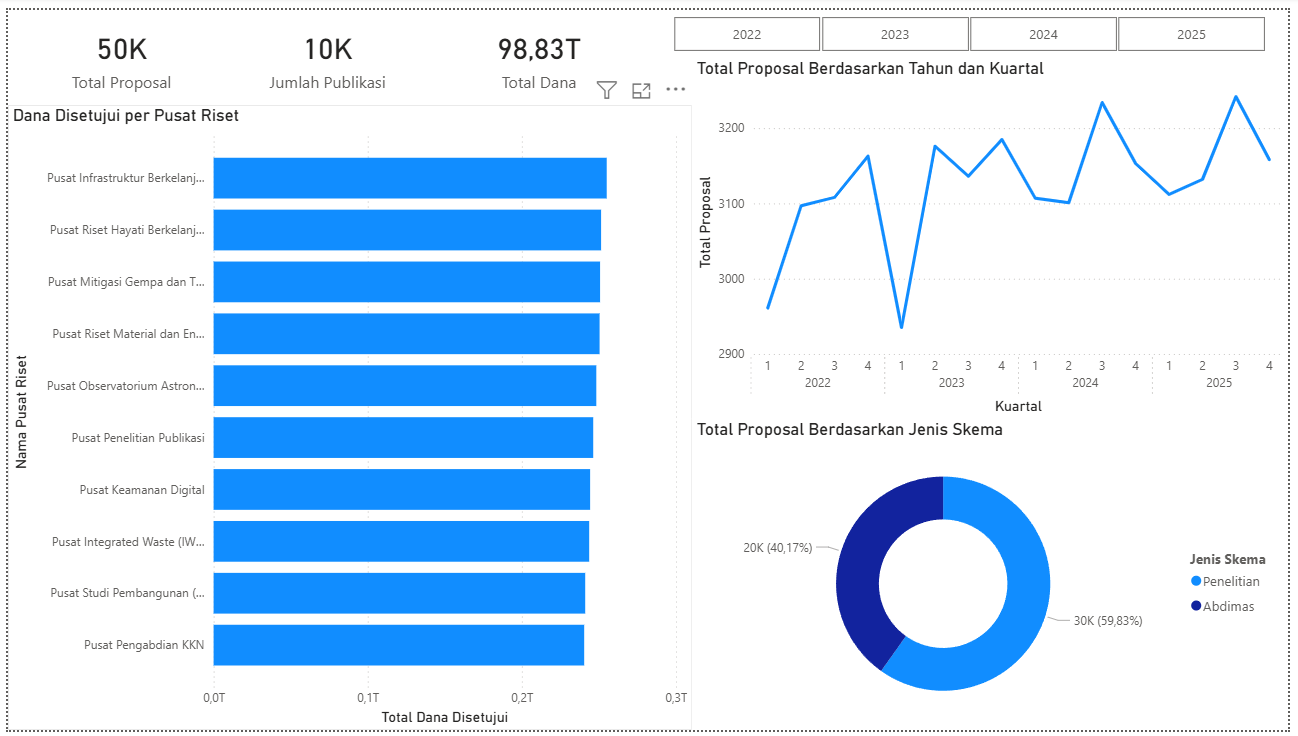

Layout of this report page (visuals, bound fields, positions):
{"tool":"powerbi","page":{"name":"Page 1","canvas":[1280,720],"ordinal":0},"visuals":[{"type":"card","fields":{"Values":["Sum(vw_Proposal_Analytics.Total_Proposal)"]},"box":[10.1,0,207.4,95],"z":0},{"type":"card","fields":{"Values":["Sum(vw_Publikasi_Analytics.Jml_Publikasi)"]},"box":[217.5,0,204.5,95],"z":1000},{"type":"card","fields":{"Values":["Sum(vw_Peneliti_Performance (2).Total_Dana)"]},"box":[422,0,217.5,95],"z":2000},{"type":"clusteredBarChart","title":"Dana Disetujui per Pusat Riset","fields":{"Category":["vw_Proposal_Analytics.Nama_Pusat_Riset"],"Y":["Sum(vw_Proposal_Analytics.Total_Dana_Setuju)"]},"box":[0,95,684.1,625],"z":3000},{"type":"lineChart","title":"Total Proposal Berdasarkan Tahun dan Kuartal","fields":{"Category":["vw_Proposal_Analytics.Tahun","vw_Proposal_Analytics.Kuartal"],"Y":["Sum(vw_Proposal_Analytics.Total_Proposal)"]},"box":[684.1,47.5,596.2,361.5],"z":4000},{"type":"donutChart","title":"Total Proposal Berdasarkan Jenis Skema","fields":{"Category":["vw_Proposal_Analytics.Jenis_Skema"],"Y":["Sum(vw_Proposal_Analytics.Total_Proposal)"]},"box":[684.1,409,596.2,311.1],"z":5000},{"type":"slicer","fields":{"Values":["vw_Proposal_Analytics.Tahun"]},"box":[639.4,0,640.9,47.5],"z":6000}]}

Visuals, with their boxes in screenshot pixels (x1, y1, x2, y2), scaled from the page's 1280x720 canvas onto the 1298x736 screenshot:
card - Sum(vw_Proposal_Analytics.Total_Proposal): rect(10, 0, 221, 97)
card - Sum(vw_Publikasi_Analytics.Jml_Publikasi): rect(221, 0, 428, 97)
card - Sum(vw_Peneliti_Performance (2).Total_Dana): rect(428, 0, 648, 97)
"Dana Disetujui per Pusat Riset" clusteredBarChart: rect(0, 97, 694, 735)
"Total Proposal Berdasarkan Tahun dan Kuartal" lineChart: rect(694, 49, 1297, 418)
"Total Proposal Berdasarkan Jenis Skema" donutChart: rect(694, 418, 1297, 735)
slicer - vw_Proposal_Analytics.Tahun: rect(648, 0, 1297, 49)
